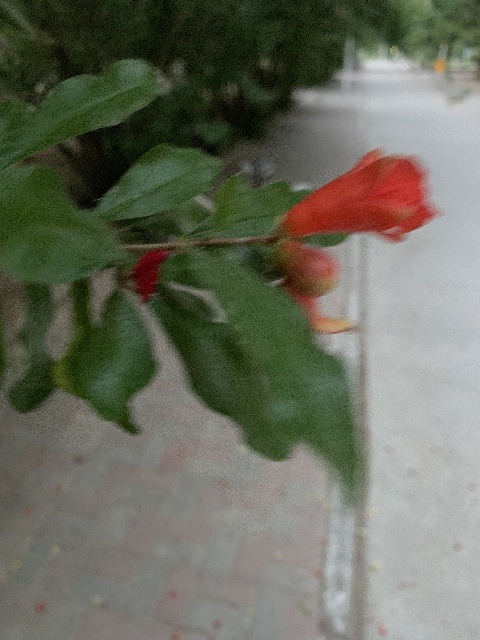bud: (279, 240, 342, 296)
flower: (282, 148, 445, 244)
